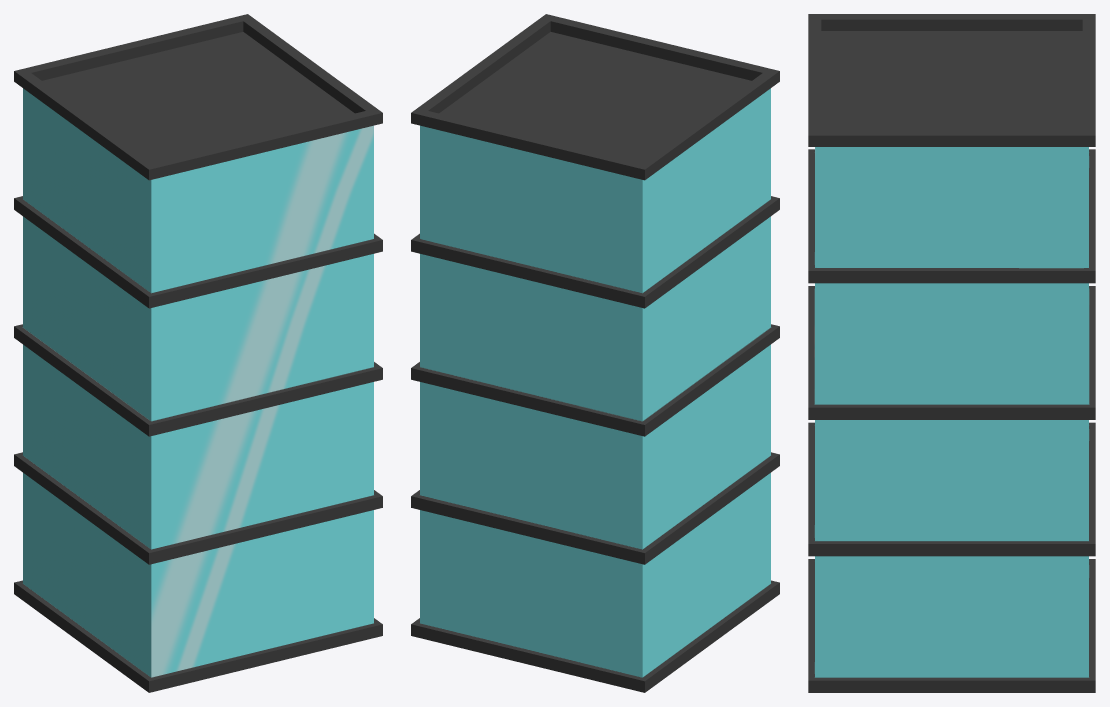
File: Larg.fbx
The picture shows the model from 3 angles, left to right: view 1: azimuth 30°, elevation 25°; view 2: azimuth 150°, elevation 25°; view 3: azimuth 270°, elevation 25°; orthographic projection. The views are drawn at different scales.
Parts seen in each view (by area): view 1: LargMed1; view 2: LargMed1; view 3: LargMed1.
Boxes of the visible parts, bbox=[...] form: LargMed1: bbox=[14, 14, 382, 692]; LargMed1: bbox=[411, 14, 779, 692]; LargMed1: bbox=[808, 14, 1095, 692].
Bounding box in the file's own units: 4.2 × 8.98 × 4.2.
